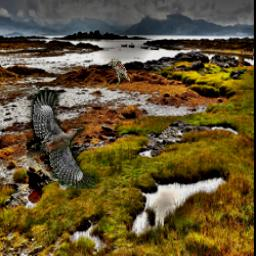Sparrow: (108, 59, 130, 88)
Woodpecker: (28, 91, 96, 190)
